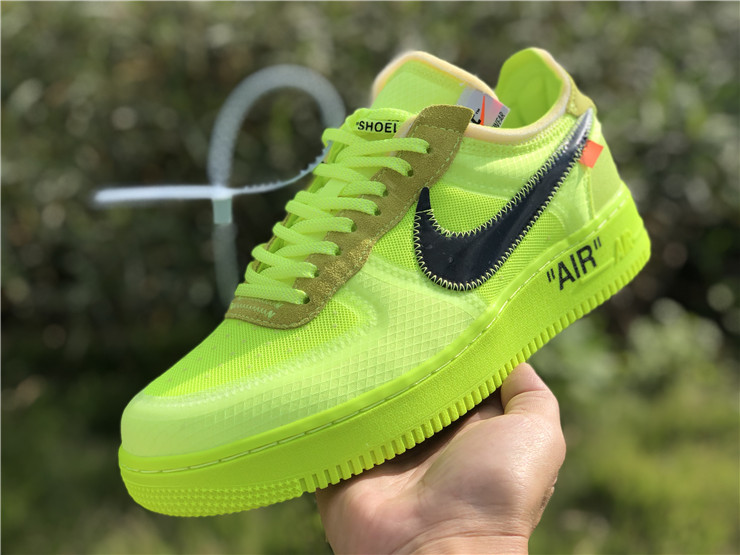Air Force One Volt: (114, 40, 655, 527)
